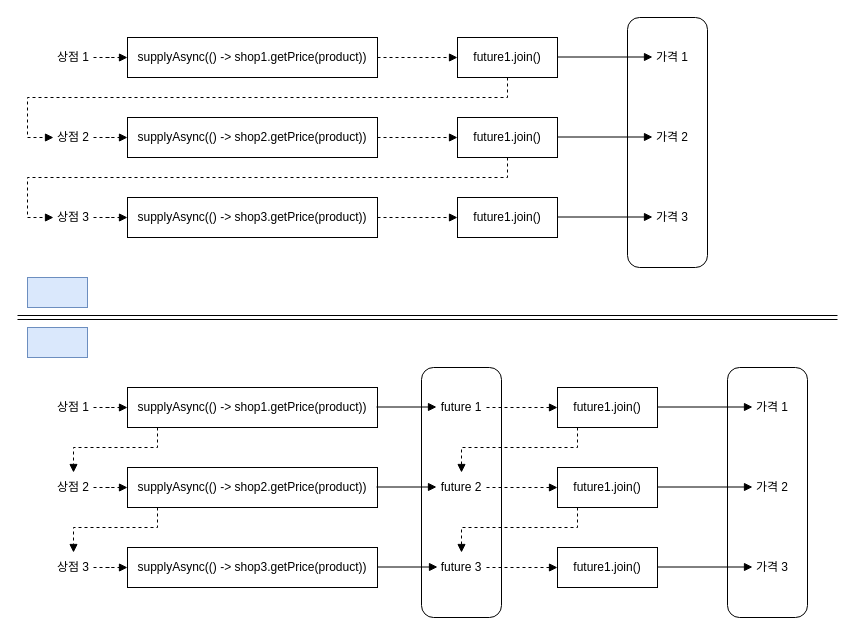
Image size: 855x635. Some labels were removed from this diagram. Each missing label, with the centre of its shape:
"병렬" goes at point 57,342.
"순차" goes at point 57,292.
